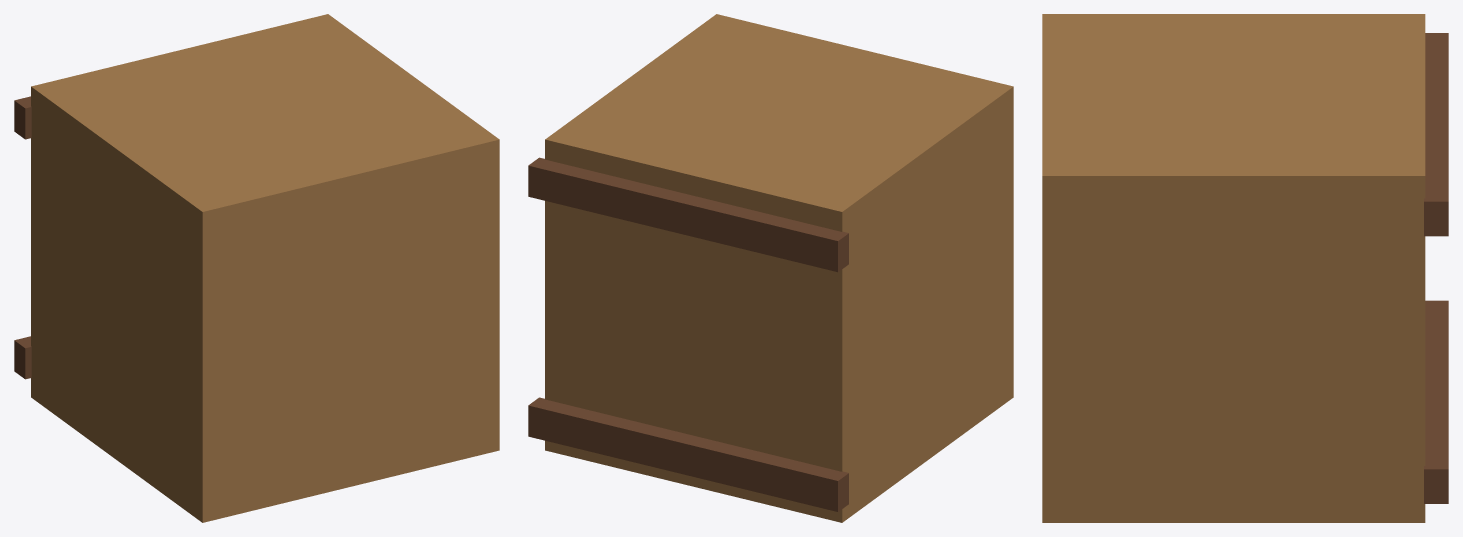
File: crate.glb
The picture shows the model from 3 angles, left to right: view 1: azimuth 30°, elevation 25°; view 2: azimuth 150°, elevation 25°; view 3: azimuth 270°, elevation 25°; orthographic projection. The views are drawn at different scales.
Visible parts, largest first — view 1: crate, brace (×2); view 2: crate, brace (×2); view 3: crate, brace (×2).
Part boxes in pixels (x1=…): crate: x1=31, y1=14, x2=499, y2=522; brace (×2): x1=14, y1=96, x2=31, y2=379; crate: x1=545, y1=14, x2=1013, y2=522; brace (×2): x1=528, y1=157, x2=848, y2=511; crate: x1=1042, y1=14, x2=1425, y2=522; brace (×2): x1=1424, y1=33, x2=1448, y2=503.
Bounding box in the file's own units: 0.73 × 0.7 × 0.7425.
